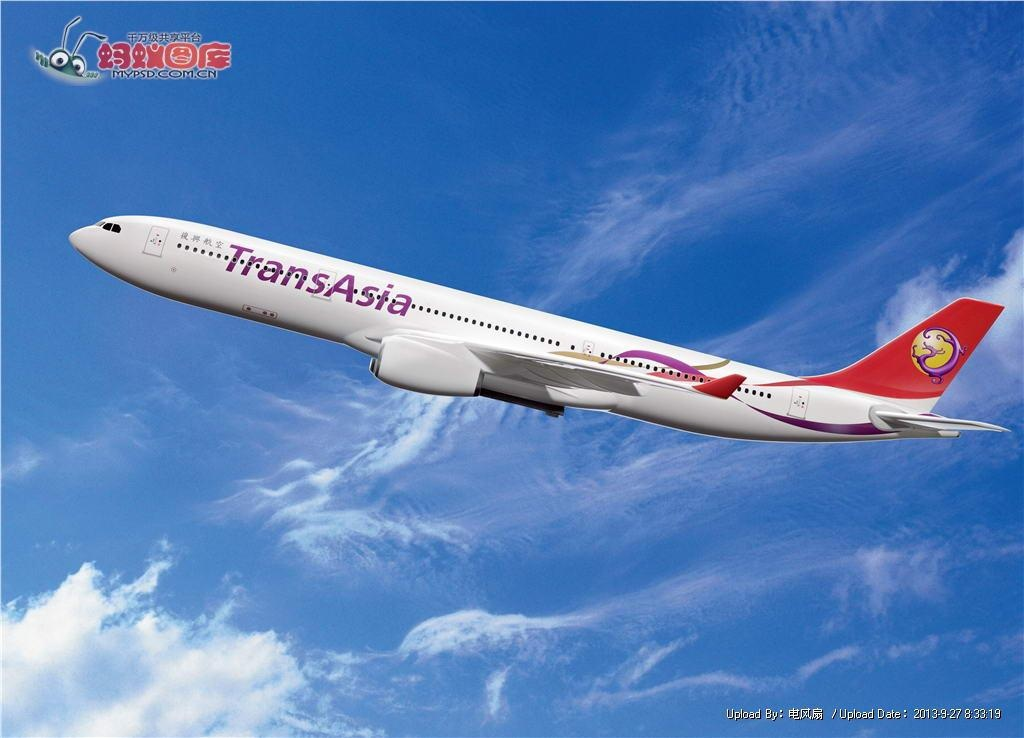airplane: (44, 195, 1013, 469)
